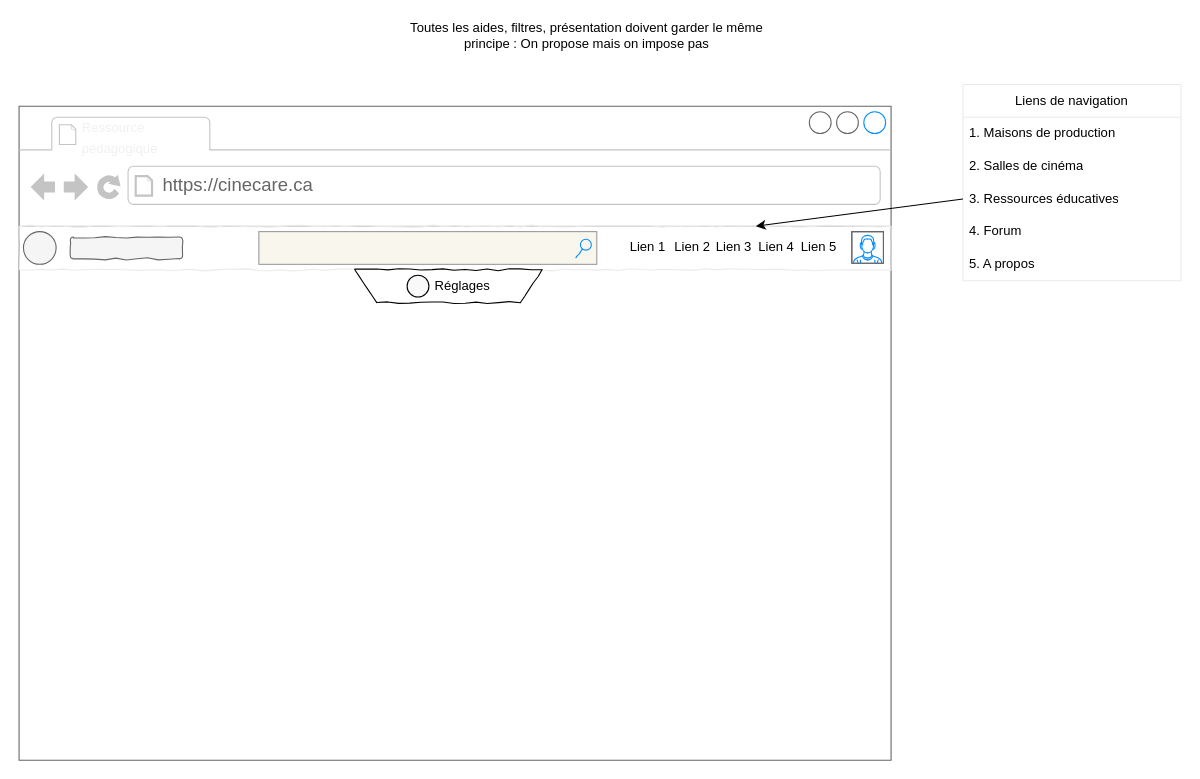
This 1200x779 diagram has some shape labels left out. The centre of each missing label's shape, as x and y in pixels:
Search: point (427, 247)
TITRE: point (126, 247)
